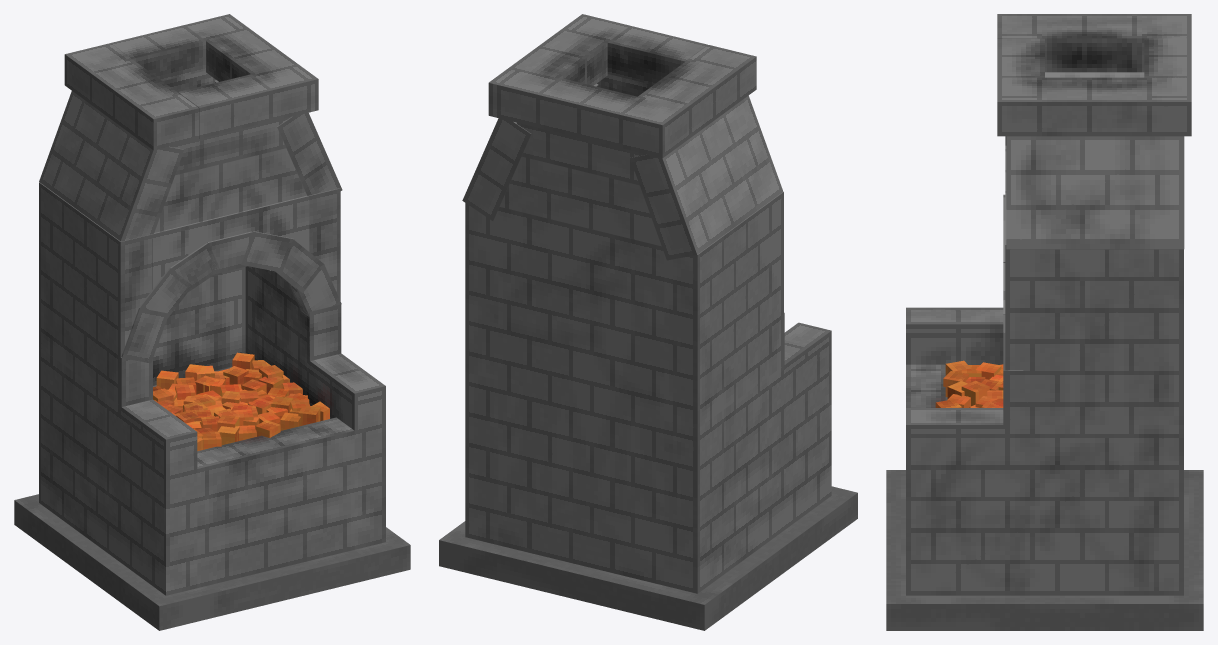
The model's file is forege.gltf.
3 views of the same model, side by side, from view 1: azimuth 30°, elevation 25°; view 2: azimuth 150°, elevation 25°; view 3: azimuth 270°, elevation 25° (orthographic). The views are drawn at different scales.
Visible parts, largest first — view 1: cube; view 2: cube; view 3: cube.
Boxes of the visible parts, box(x1,y1,x2,y2) form: cube: box(14, 14, 410, 630); cube: box(439, 14, 857, 630); cube: box(886, 14, 1203, 630).
Bounding box in the file's own units: 1 × 1.76 × 1.
Materials: 1 (1 with a texture image).
